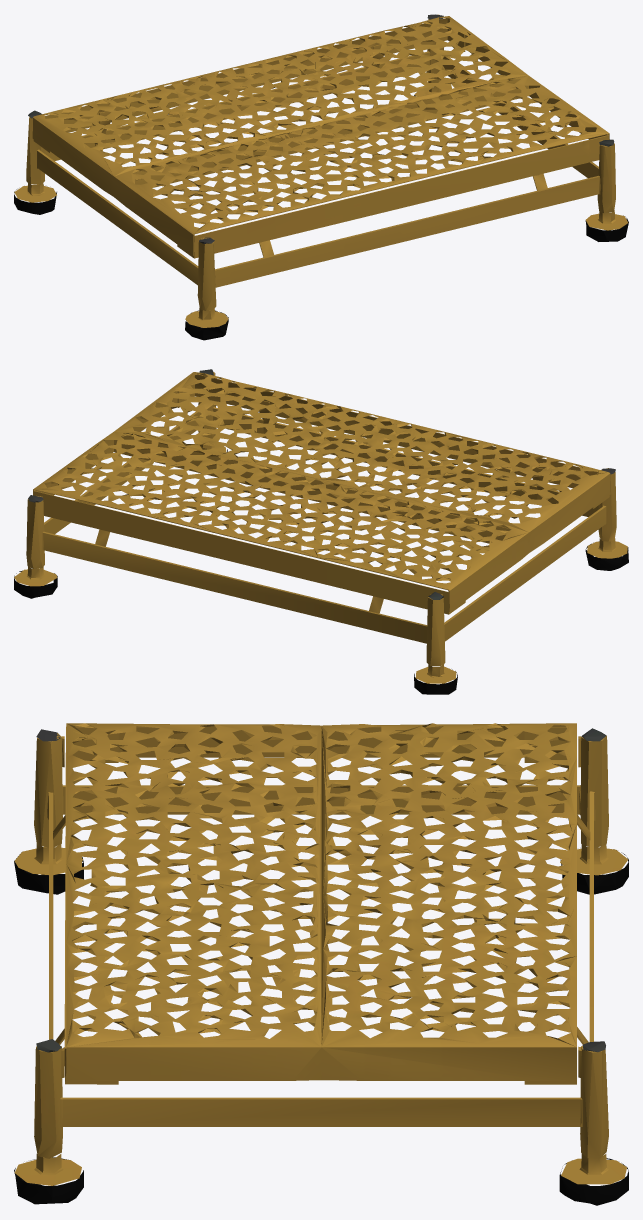
Rendered from stationaryworkplatform_a03.glb.
3 renders of one model, top to bottom at view 1: azimuth 30°, elevation 25°; view 2: azimuth 150°, elevation 25°; view 3: azimuth 270°, elevation 25°, orthographic. The views are drawn at different scales.
Visible parts, largest first — view 1: root; view 2: root; view 3: root.
Part boxes in pixels (x1,y1,x2,y2): root: [14, 14, 628, 340]; root: [14, 369, 628, 694]; root: [14, 723, 628, 1205].
Size of the model in its own units: 0.9608 by 0.2069 by 0.7342.
Materials: 3 (3 with a texture image).
